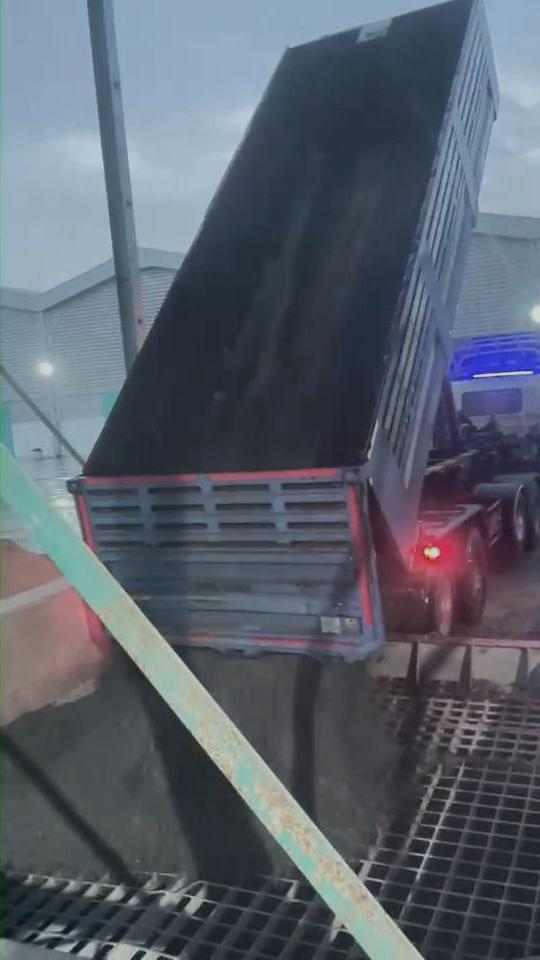gravel: (4, 644, 295, 884), (181, 652, 397, 861), (323, 107, 438, 465), (234, 155, 338, 402)
